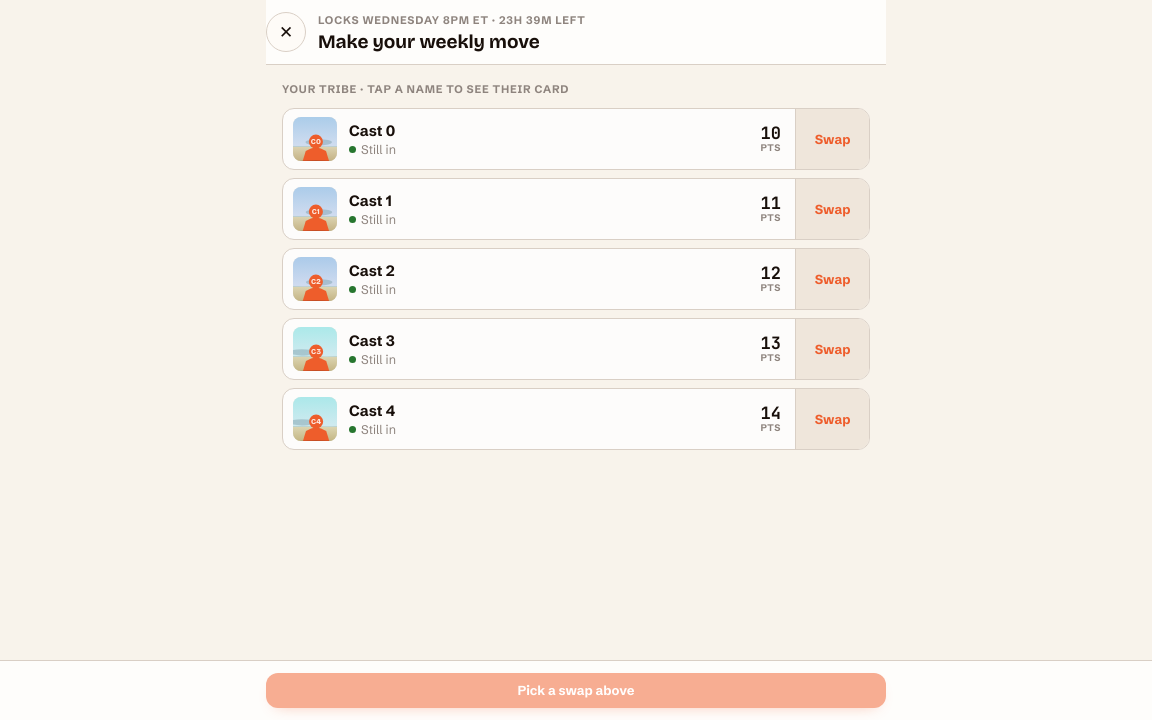
Scenario: SwapSheet › tapping the row body opens the card rather than performing the swap
Click the button with aria-label "View card".
click(315, 139)  # box [283,109,787,169]
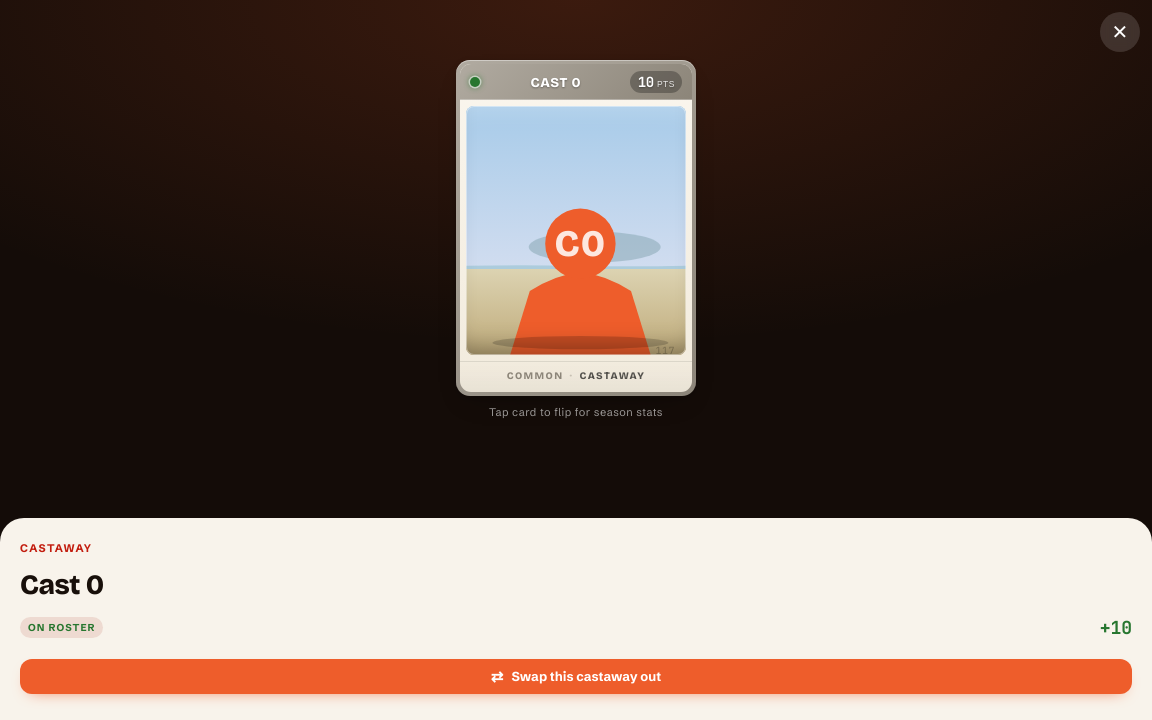
Check: the button with aria-label "Flip card to see season stats" is shown, box [456,60,696,396]
